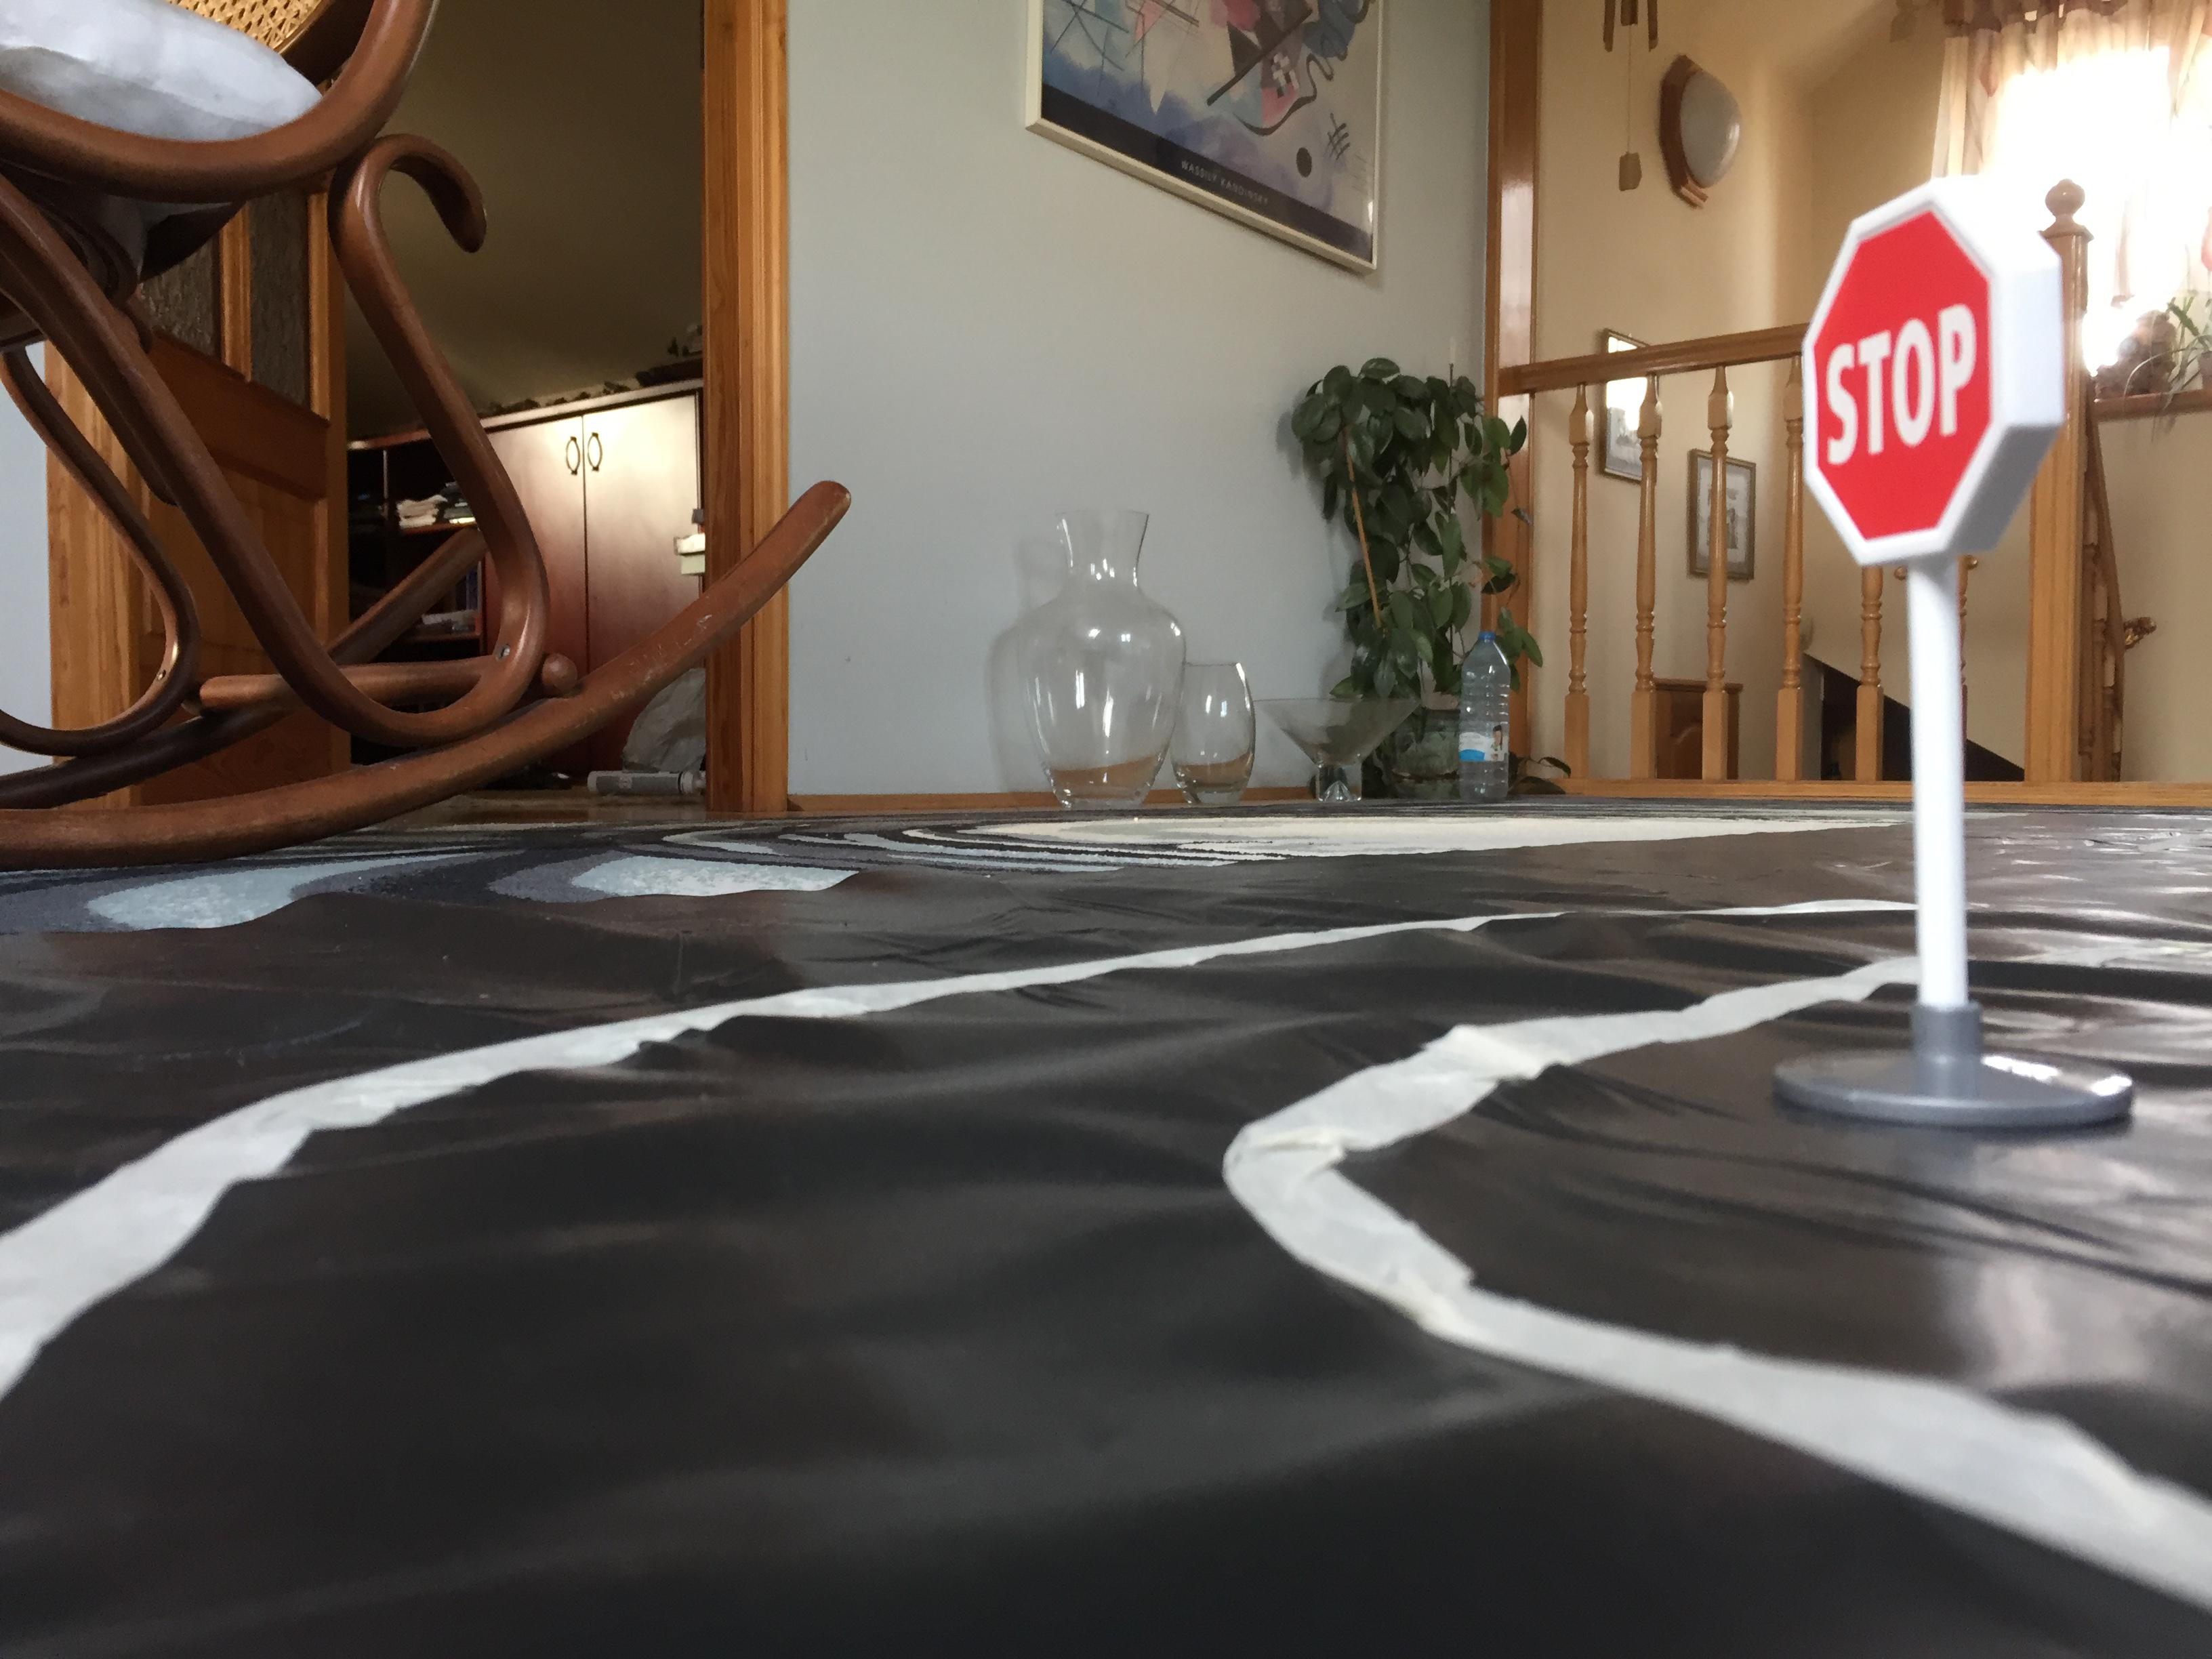stop: (1791, 166, 2050, 586)
